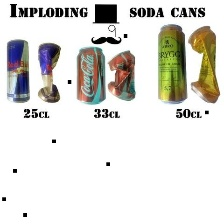can: (186, 22, 221, 107), (152, 21, 186, 108), (1, 34, 34, 105), (70, 45, 106, 110), (105, 46, 139, 101), (35, 39, 62, 104)
